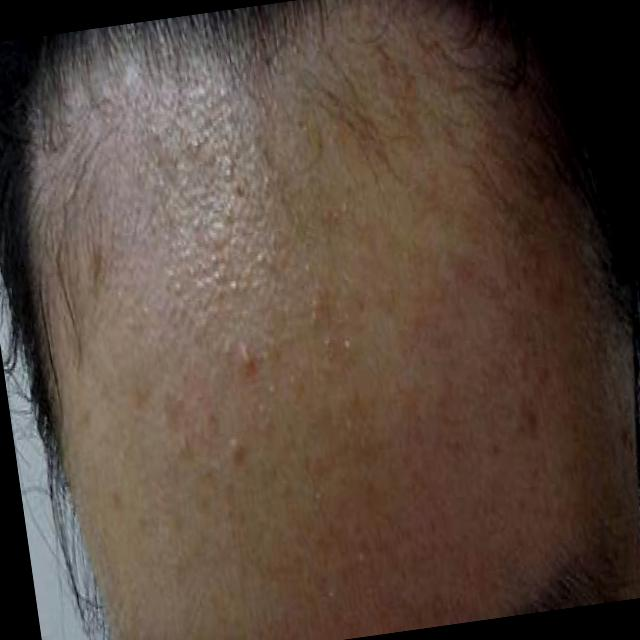fungal: (85, 144, 593, 598)
